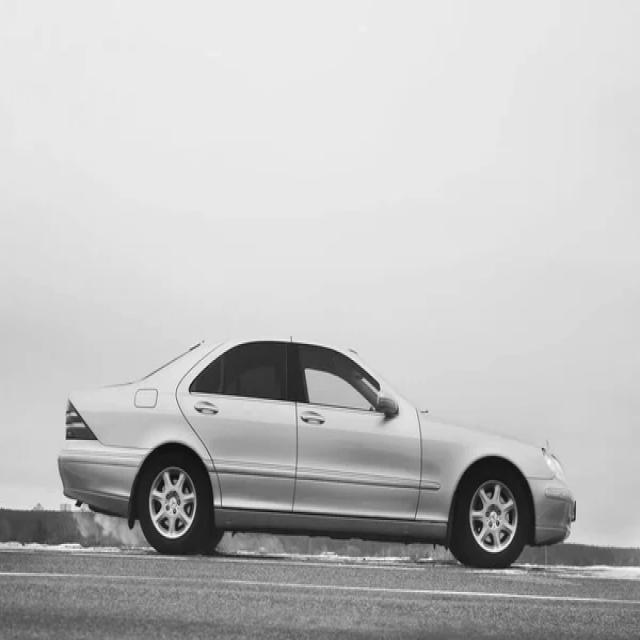Car: (58, 341, 577, 569)
